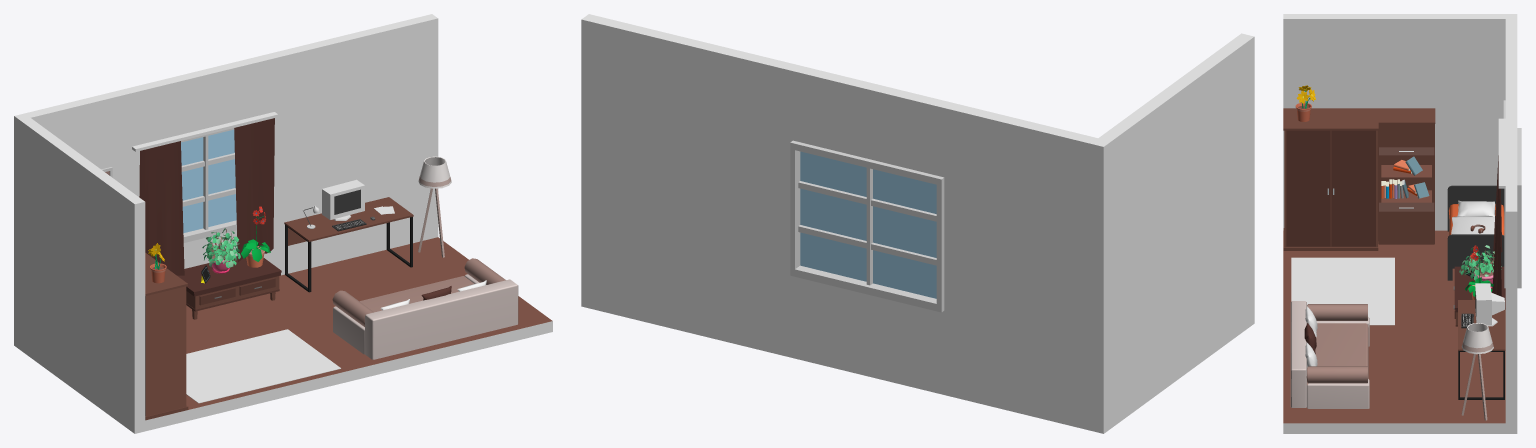
The model's file is room_7.glb.
3 renders of one model, left to right at view 1: azimuth 30°, elevation 25°; view 2: azimuth 150°, elevation 25°; view 3: azimuth 270°, elevation 25°, orthographic. The views are drawn at different scales.
Visible parts, largest first — view 1: Walls_006.120, Walls_006.119, Walls_009.005, sofa_004.001, Walls_006.118, Walls_006.122, Walls_003.039, closet_026.003, window_020.002, Curtains_019.001, Curtains_019.002, shelf_021.001 (+7 smaller); view 2: Walls_006.120, Walls_006.119, Walls_006.118, window_020.002, Walls_006.121, Walls_006.122; view 3: Walls_006.119, Walls_009.005, closet_026.003, sofa_004.001, closet_037.001, Walls_003.039, Walls_006.120, bed_021.001, office_table_039.001, lamp_floor_013.010, window_020.002, electronics_008.001 (+13 smaller).
Boxes of the visible parts, box(x1,y1,x2,y2) form: Walls_006.120: box(260, 14, 438, 275); Walls_006.119: box(14, 113, 145, 433); Walls_009.005: box(145, 237, 552, 431); sofa_004.001: box(332, 258, 518, 359); Walls_006.118: box(25, 84, 150, 196); Walls_006.122: box(145, 56, 265, 141); Walls_003.039: box(186, 329, 340, 403); closet_026.003: box(145, 253, 188, 420); window_020.002: box(181, 128, 236, 242); Curtains_019.001: box(139, 141, 184, 275); Curtains_019.002: box(234, 118, 274, 262); shelf_021.001: box(177, 256, 281, 319); Walls_006.120: box(581, 14, 803, 358); Walls_006.119: box(1090, 33, 1254, 433); Walls_006.118: box(940, 101, 1097, 430); window_020.002: box(790, 140, 944, 312); Walls_006.121: box(797, 277, 940, 393); Walls_006.122: box(797, 66, 947, 176); Walls_006.119: box(1283, 14, 1517, 230); Walls_009.005: box(1283, 230, 1505, 433); closet_026.003: box(1283, 108, 1378, 250); sofa_004.001: box(1290, 301, 1369, 408); closet_037.001: box(1378, 108, 1435, 244); Walls_003.039: box(1291, 257, 1394, 325); Walls_006.120: box(1505, 130, 1517, 433); bed_021.001: box(1447, 185, 1504, 280); office_table_039.001: box(1458, 300, 1505, 399); lamp_floor_013.010: box(1461, 323, 1493, 420); window_020.002: box(1504, 128, 1521, 288); electronics_008.001: box(1475, 283, 1504, 326).
Bounding box in the file's own units: 8 × 4.2 × 4.07.
Materials: 1 (1 with a texture image).
